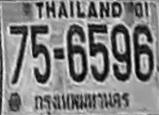5: (30, 24, 53, 85), (88, 23, 109, 81)
6: (134, 24, 154, 81), (66, 25, 86, 82)
7: (9, 24, 27, 85)
9: (111, 24, 131, 81)
BKK: (31, 90, 133, 114)
